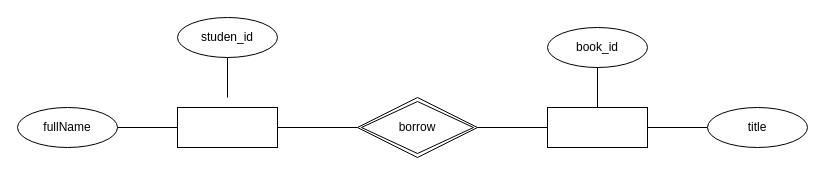
The diagram is 825 pixels wide and 175 high, and some of its shapes have lost their labels. Here are the shapes that lost their labels. From the top down, the centre of each, then its label:
the point at 227,127: studens
the point at 597,127: books
